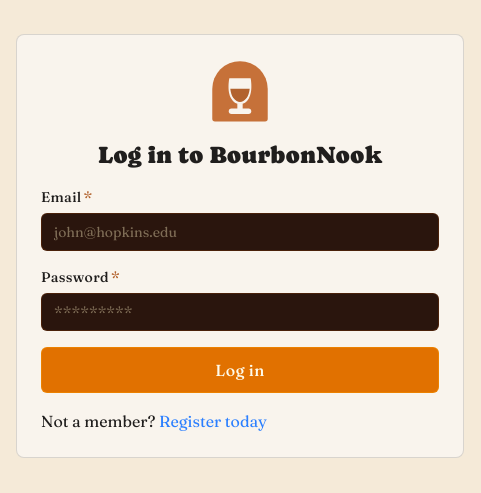
Scenario: Login route › should fall back to a generic message when the error has no response body
In the field labelled "Email*": (240, 232) 41,213 -> 439,251, type "peter@me.com"
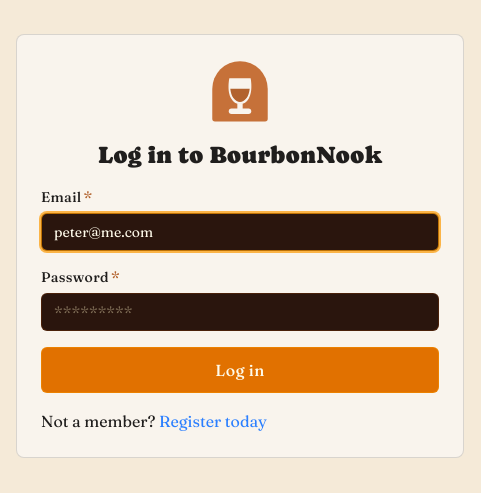
In the password field labelled "Password*": (240, 312) 41,293 -> 439,331, type "somepassword"
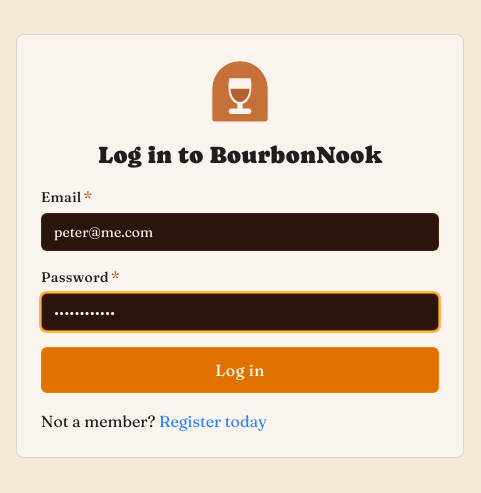
Click the button "Log in": (240, 370) 41,347 -> 439,393
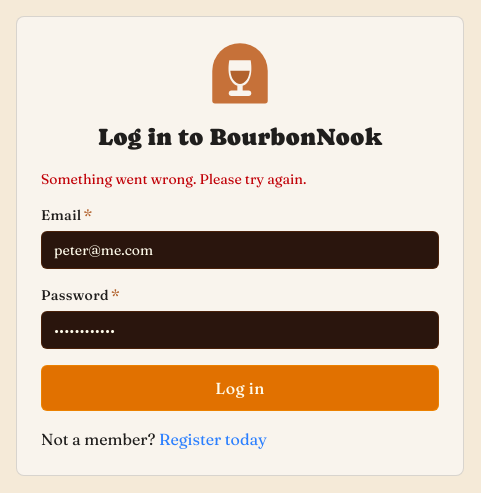
Check: the message shows "Something went wrong", box 41,170 -> 306,188
